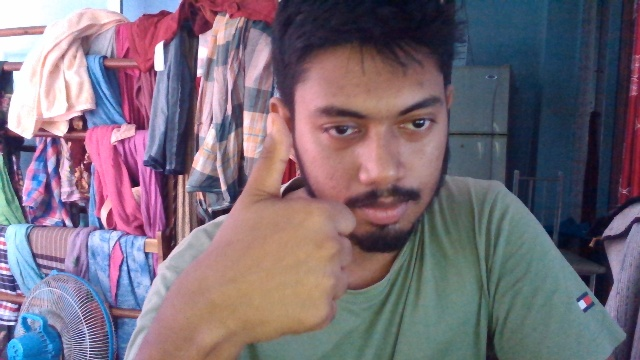yes: (216, 110, 358, 353)
